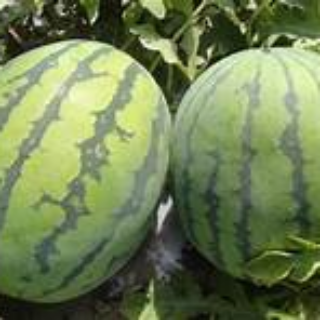dua_hau: (1, 40, 168, 306), (170, 46, 320, 285)
